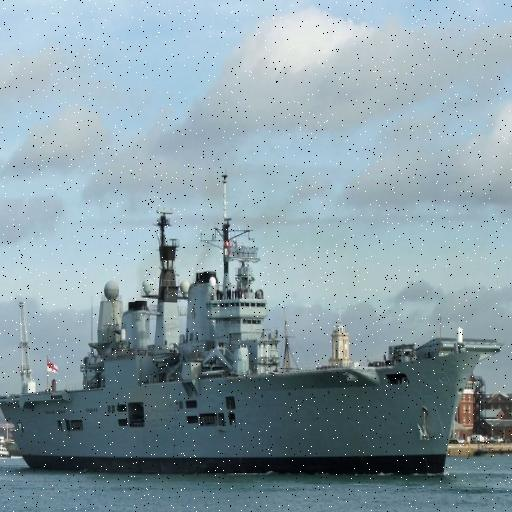Portanaves: (1, 173, 505, 481)
